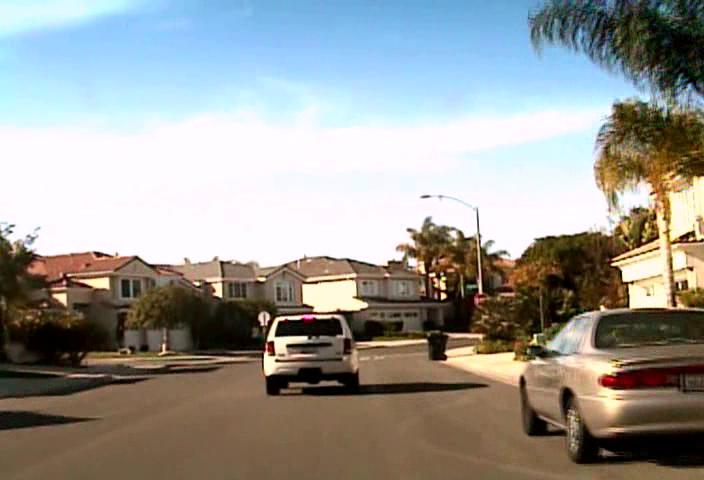stop: (473, 292, 489, 307)
